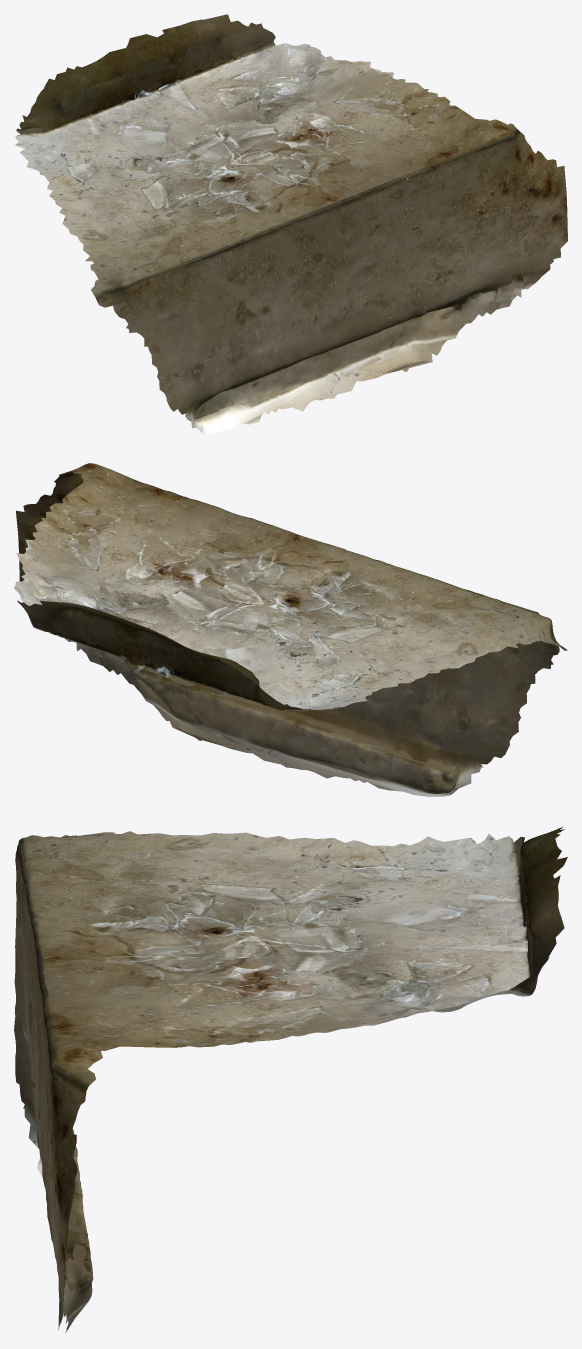
File: leela.glb
3 renders of one model, top to bottom at view 1: azimuth 30°, elevation 25°; view 2: azimuth 150°, elevation 25°; view 3: azimuth 270°, elevation 25°, orthographic. The views are drawn at different scales.
Parts seen in each view (by area): view 1: model.003; view 2: model.003; view 3: model.003.
Boxes of the visible parts, bbox=[...] form: model.003: bbox=[14, 14, 567, 434]; model.003: bbox=[14, 463, 567, 796]; model.003: bbox=[14, 827, 567, 1333].
Bounding box in the file's own units: 4.03 × 2.09 × 2.62.
3 materials, 3 textured.
